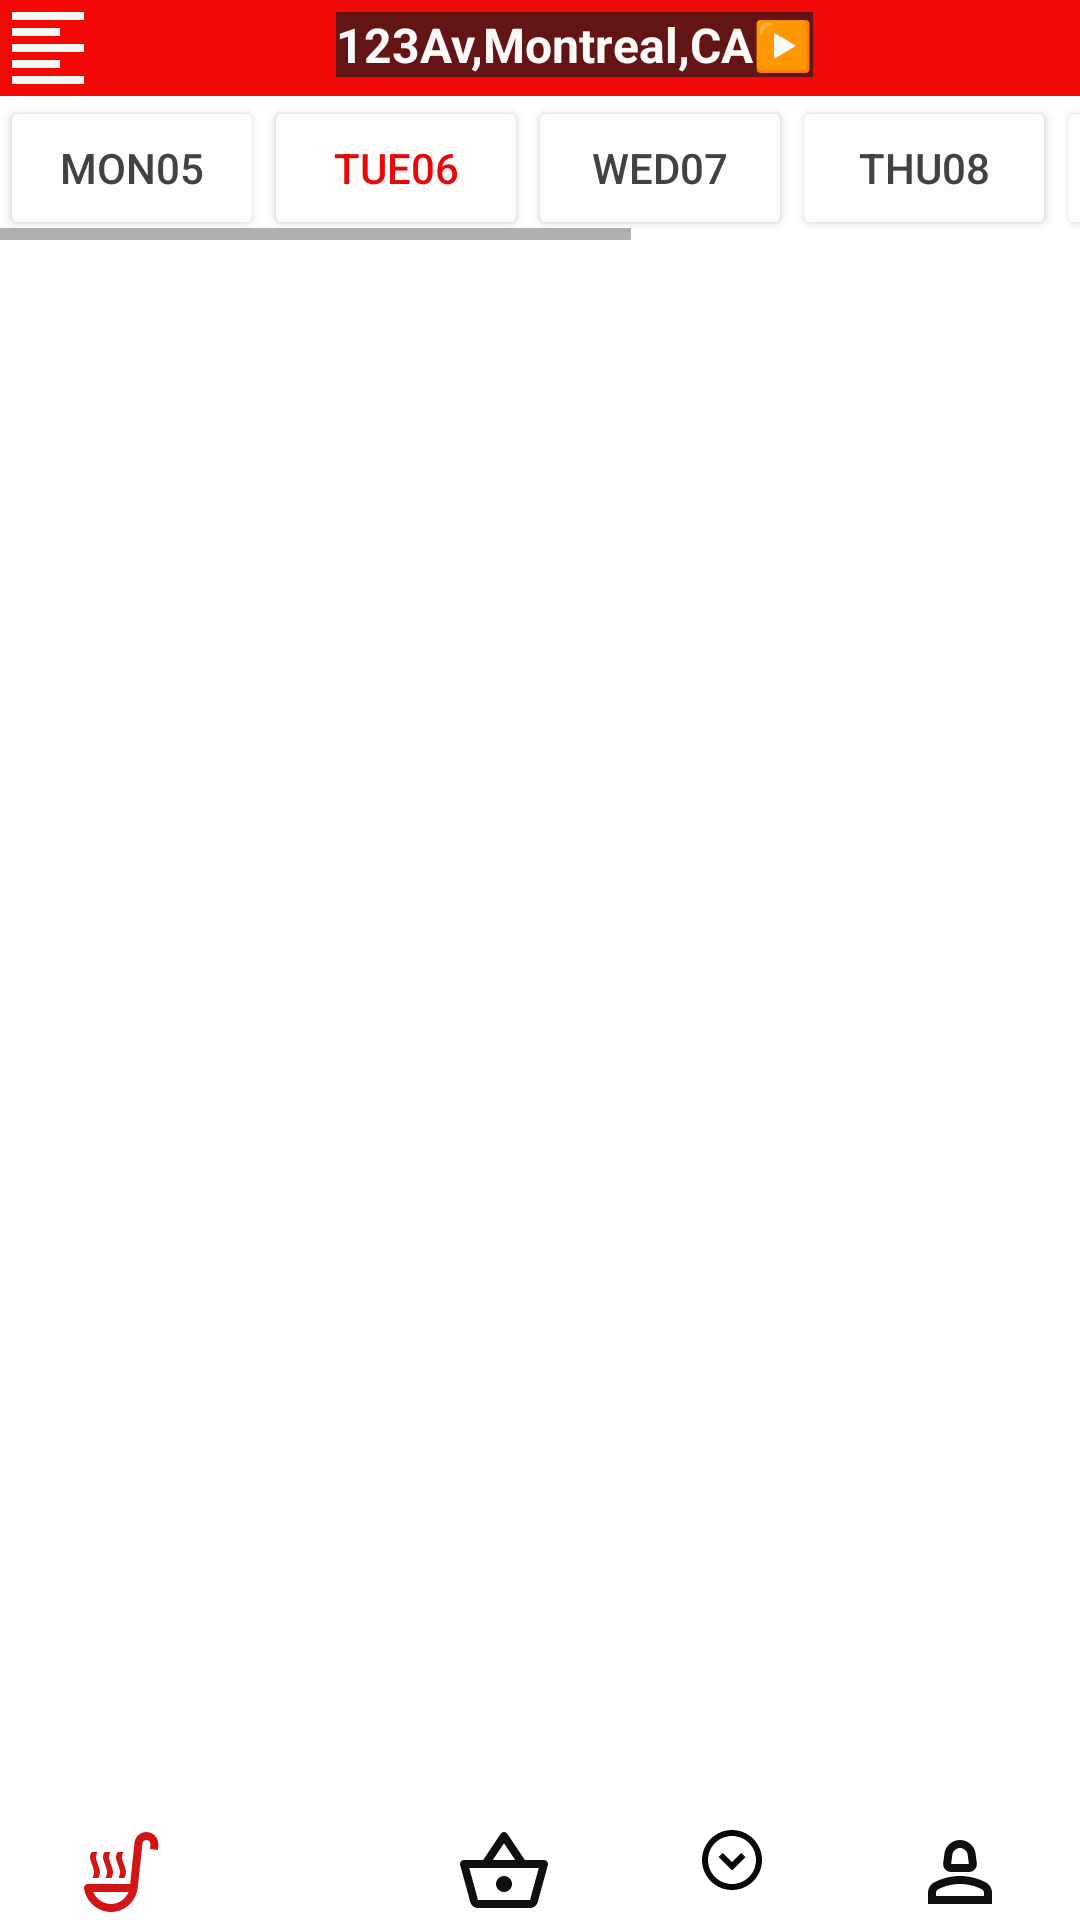

Locate icon controls on the screen. Image size 1080×1920, boxes as (x1, y1, x2, y2).
expand circle down: (702, 1830, 762, 1890)
person: (928, 1840, 992, 1904)
shopping basket: (460, 1832, 548, 1908)
soup kitchen: (84, 1832, 159, 1912)
